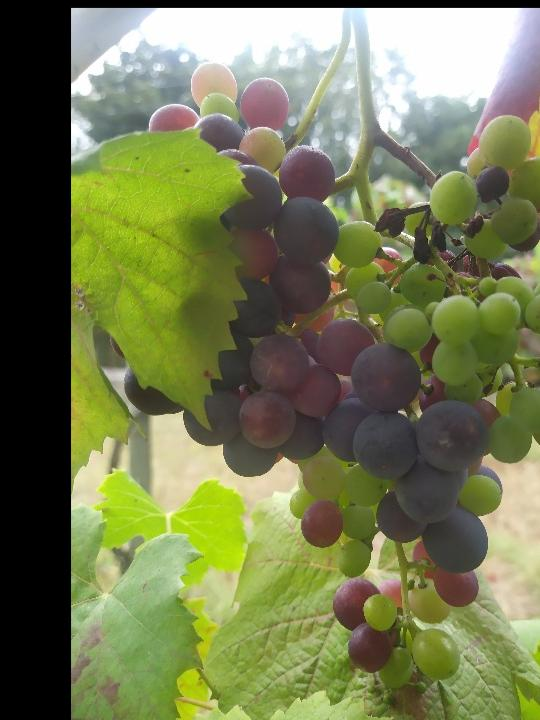grape: (108, 58, 540, 693)
